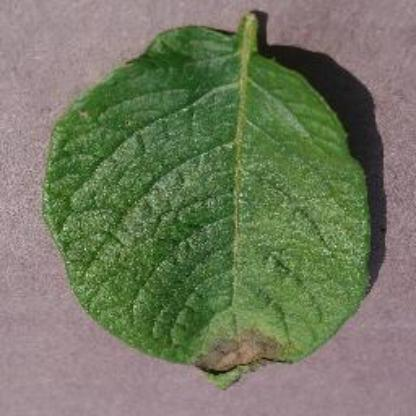Late-Blight: (39, 12, 388, 390)
